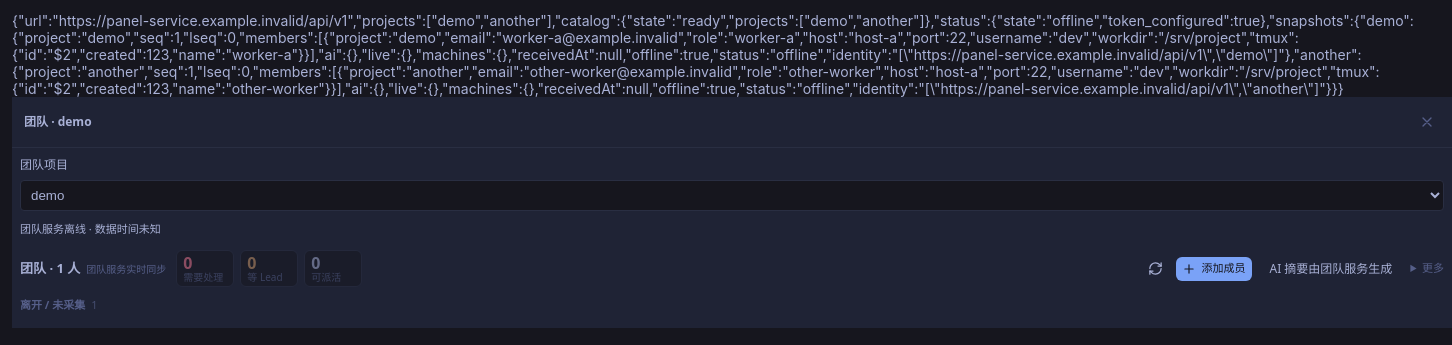
Test case: opens a real team panel without a Lead profile or tmux binding and switches service projects
This screenshot has width=1452, height=345.
Expected: the text "团队 · demo" is shown, x1=24 y1=113 x2=92 y2=131
Select "another" in the dropdown labelled "团队项目": x=732, y=196 x1=20 y1=180 x2=1444 y2=211
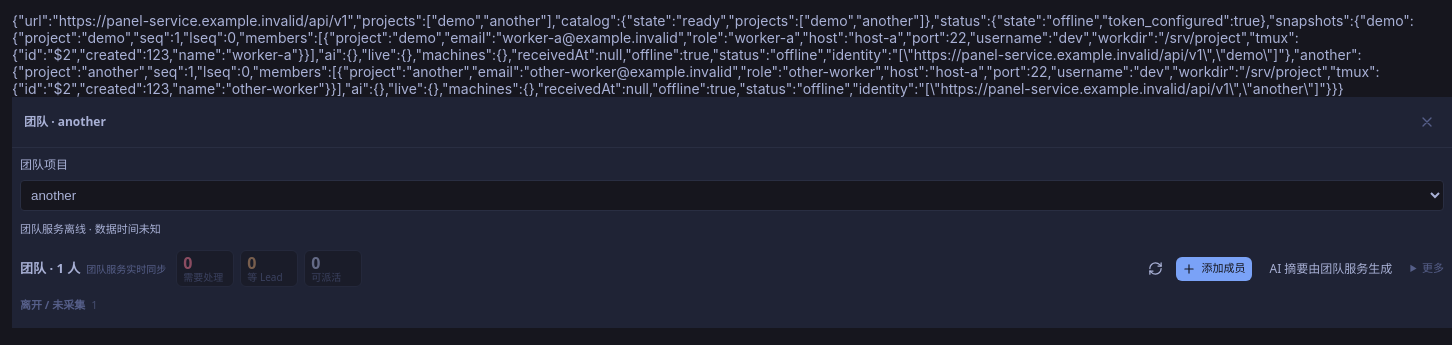
Result: the text "团队 · another" is shown at x1=24 y1=113 x2=106 y2=131
